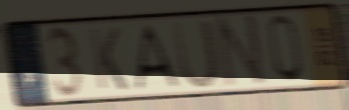0: (265, 12, 306, 86)
3: (45, 22, 84, 102)
A: (133, 22, 184, 93)
K: (86, 26, 131, 93)
N: (215, 12, 268, 90)
U: (170, 17, 222, 91)
